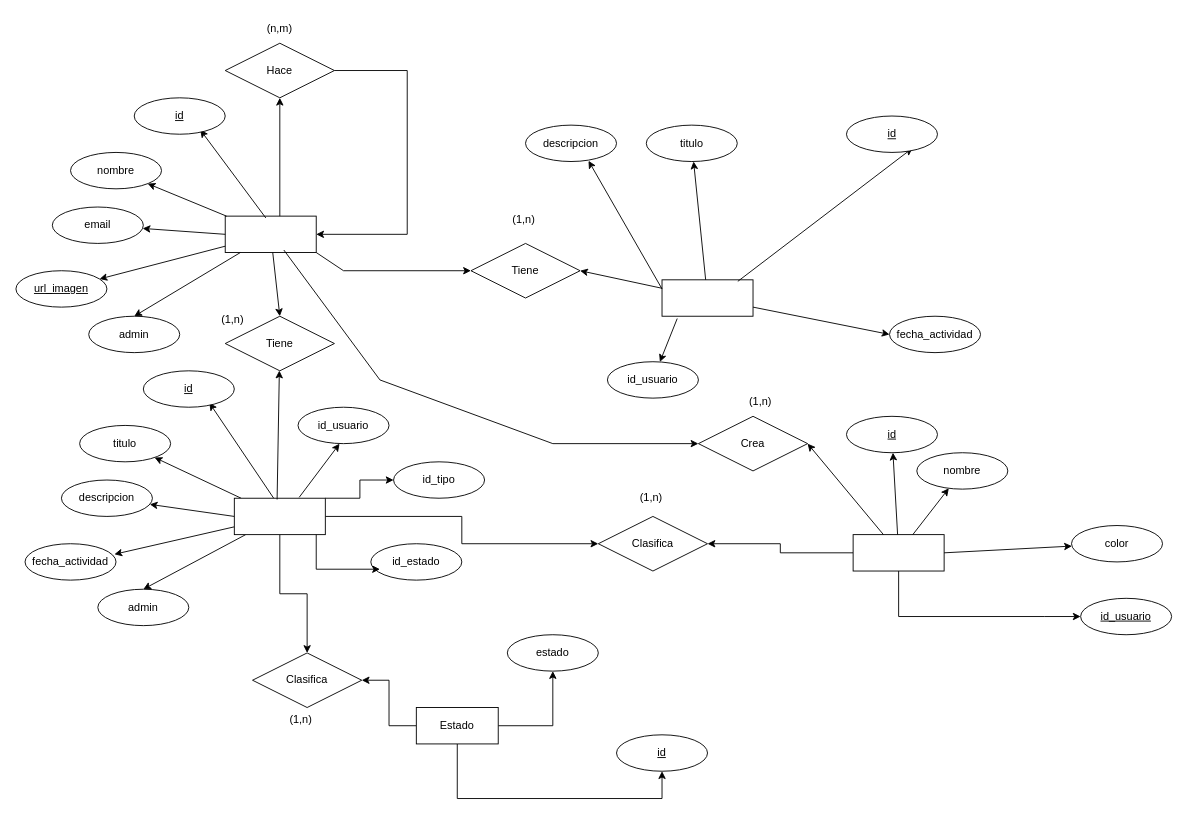
Some shapes in this 1188 by 822 pixel diagram are drawn without their labels. The shapes that lost their labels are listed below. From the top down, each one's centre as x and y in pixels, then its label:
the point at 270,234: Usuario
the point at 707,297: diario
the point at 279,516: Tarea
the point at 898,552: Tipo
